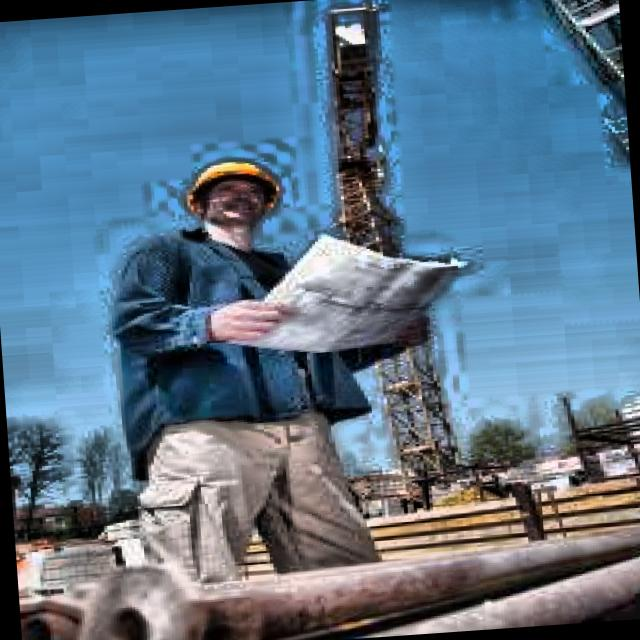helmet: (161, 142, 295, 245)
